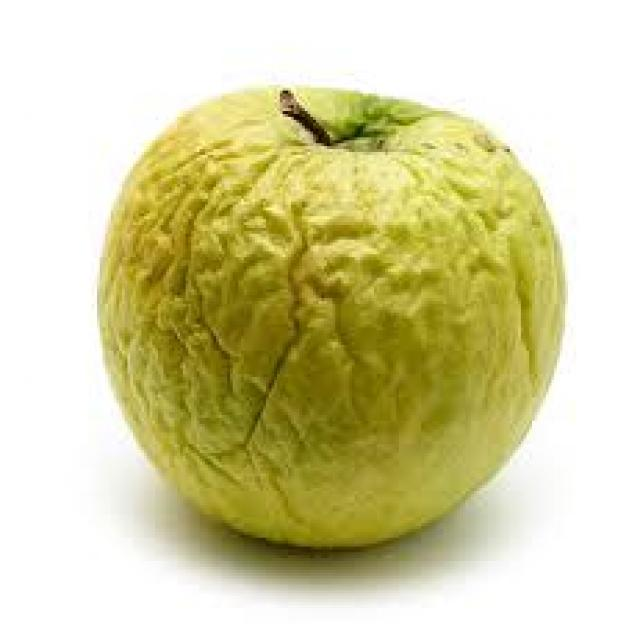Rotten: (124, 84, 551, 598)
